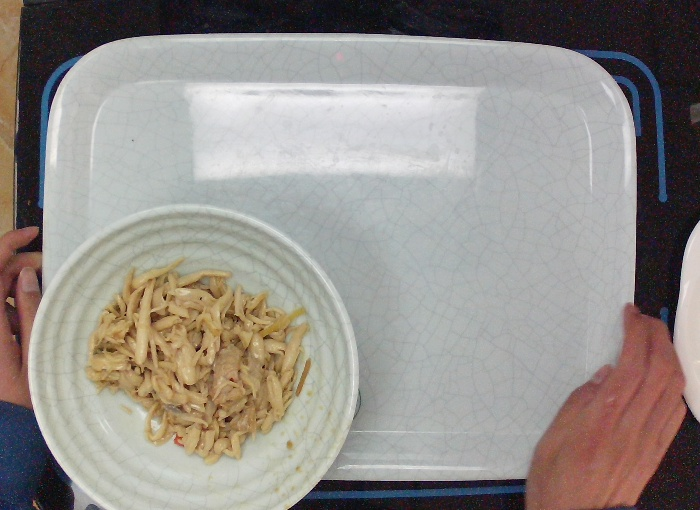JYsf-Da_Tang_Wan: (24, 203, 360, 510)
